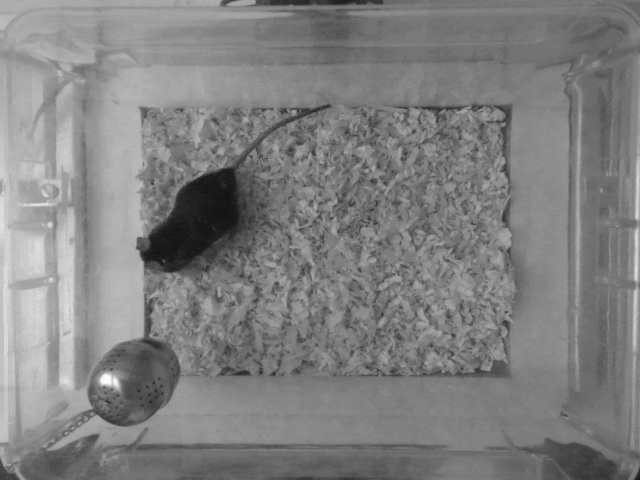mice: (134, 102, 332, 278)
